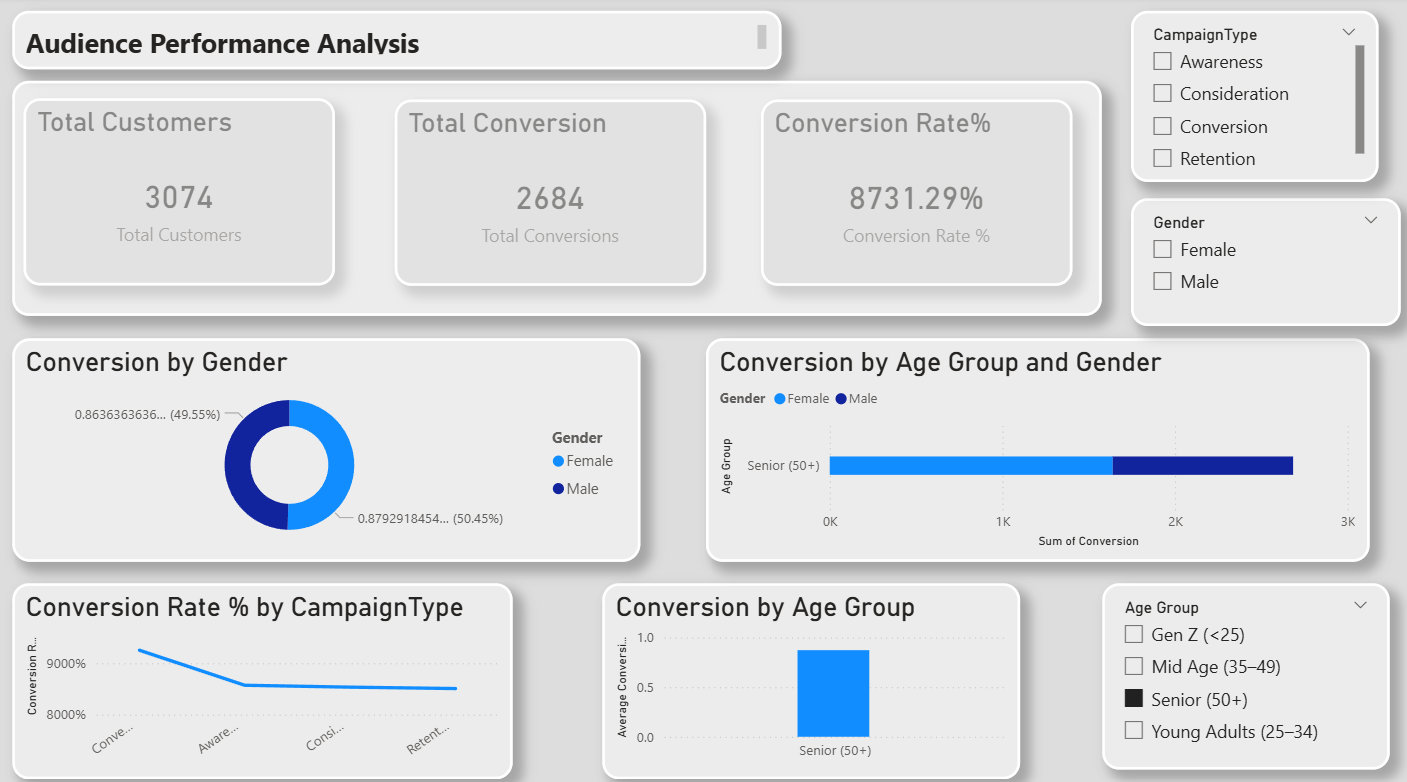

The dashboard page shown, as its layout file describes it:
{"tool":"powerbi","page":{"name":"Audience Performance Analysis","canvas":[1280,720],"ordinal":2},"visuals":[{"type":"card","title":"Total Customers","fields":{"Values":["digital marketing campaign dataset.Total Customers"]},"box":[25.1,91.4,280.6,169.1],"z":0},{"type":"card","title":"Total Conversion","fields":{"Values":["digital marketing campaign dataset.Total Conversions"]},"box":[359.5,92.7,280.6,167.9],"z":1000},{"type":"card","title":"Conversion Rate%","fields":{"Values":["digital marketing campaign dataset.Conversion Rate %"]},"box":[690.2,92.7,280.6,167.9],"z":2000},{"type":"textbox","box":[15,12.5,694,52.6],"z":3000},{"type":"textbox","box":[15,75.2,982.1,211.7],"z":4000},{"type":"clusteredColumnChart","title":" Conversion by Age Group","fields":{"Category":["digital marketing campaign dataset.Age Group"],"Y":["digital marketing campaign dataset.Average Conversion"]},"box":[546.2,528.6,377.1,176.6],"z":5000},{"type":"donutChart","title":" Conversion by Gender","fields":{"Category":["digital marketing campaign dataset.Gender"],"Y":["digital marketing campaign dataset.Average Conversion"]},"box":[15,308.2,566.2,201.7],"z":6000},{"type":"barChart","title":" Conversion by Age Group and Gender","fields":{"Category":["digital marketing campaign dataset.Age Group"],"Series":["digital marketing campaign dataset.Gender"],"Y":["Sum(digital marketing campaign dataset.Conversion)"]},"box":[640.1,308.2,598.8,201.7],"z":7000},{"type":"lineChart","fields":{"Category":["digital marketing campaign dataset.CampaignType"],"Y":["digital marketing campaign dataset.Conversion Rate %"]},"box":[15,528.6,451,176.6],"z":8000},{"type":"slicer","fields":{"Values":["digital marketing campaign dataset.Age Group"]},"box":[997.1,528.6,259.3,167.9],"z":9000},{"type":"slicer","fields":{"Values":["digital marketing campaign dataset.Gender"]},"box":[1023.5,181.6,243,115.2],"z":10000},{"type":"slicer","fields":{"Values":["digital marketing campaign dataset.CampaignType"]},"box":[1023.5,12.5,223,154.1],"z":11000}]}

Visuals, with their boxes in screenshot pixels (x1, y1, x2, y2), scaled from the page's 1280x720 canvas onto the 1407x782 screenshot:
"Total Customers" card: {"x1": 28, "y1": 99, "x2": 336, "y2": 283}
"Total Conversion" card: {"x1": 395, "y1": 101, "x2": 704, "y2": 283}
"Conversion Rate%" card: {"x1": 759, "y1": 101, "x2": 1067, "y2": 283}
textbox: {"x1": 16, "y1": 14, "x2": 779, "y2": 71}
textbox: {"x1": 16, "y1": 82, "x2": 1096, "y2": 312}
" Conversion by Age Group" clusteredColumnChart: {"x1": 600, "y1": 574, "x2": 1015, "y2": 766}
" Conversion by Gender" donutChart: {"x1": 16, "y1": 335, "x2": 639, "y2": 554}
" Conversion by Age Group and Gender" barChart: {"x1": 704, "y1": 335, "x2": 1362, "y2": 554}
lineChart - digital marketing campaign dataset.CampaignType x digital marketing campaign dataset.Conversion Rate %: {"x1": 16, "y1": 574, "x2": 512, "y2": 766}
slicer - digital marketing campaign dataset.Age Group: {"x1": 1096, "y1": 574, "x2": 1381, "y2": 756}
slicer - digital marketing campaign dataset.Gender: {"x1": 1125, "y1": 197, "x2": 1392, "y2": 322}
slicer - digital marketing campaign dataset.CampaignType: {"x1": 1125, "y1": 14, "x2": 1370, "y2": 181}
